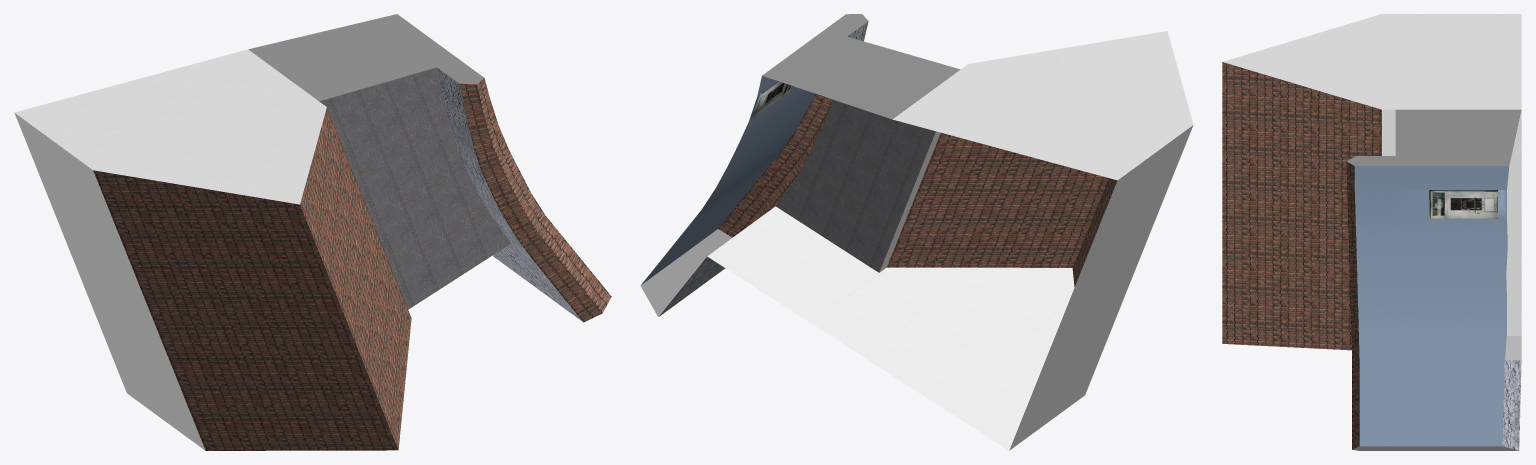
The model's file is Aida_7_1.obj.
3 views of the same model, side by side, from view 1: azimuth 30°, elevation 25°; view 2: azimuth 150°, elevation 25°; view 3: azimuth 270°, elevation 25° (orthographic). The views are drawn at different scales.
Parts seen in each view (by area): view 1: aida_7_1, xxx; view 2: aida_7_1, xxx; view 3: aida_7_1, xxx.
Boxes of the visible parts, box(x1,y1,x2,y2) form: aida_7_1: box(14, 49, 611, 450); xxx: box(248, 14, 483, 101); aida_7_1: box(641, 21, 1193, 450); xxx: box(640, 14, 960, 316); aida_7_1: box(1222, 14, 1521, 450); xxx: box(1346, 109, 1521, 450).
Bounding box in the file's own units: 19.25 × 11.64 × 11.12.
